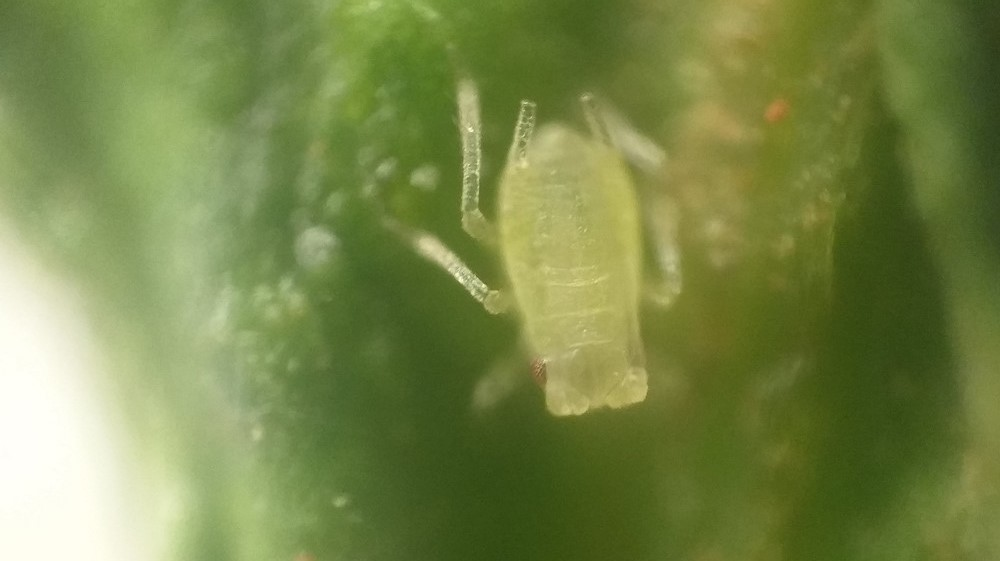Pulgon: (395, 69, 711, 445)
